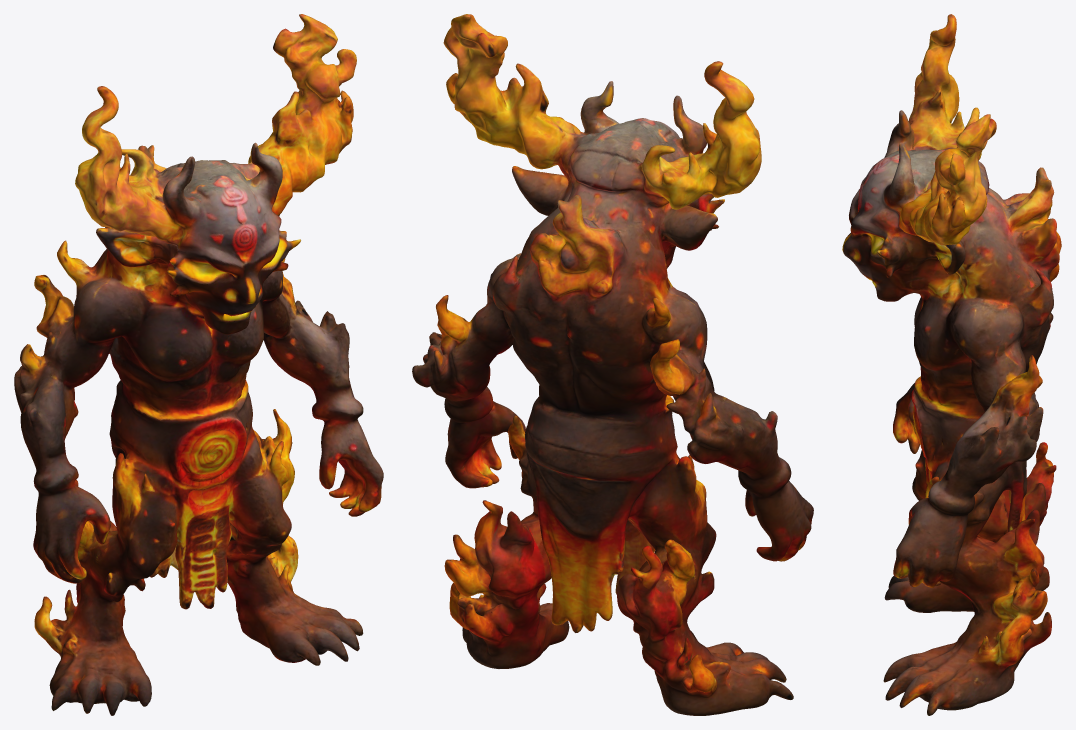
Rendered from game-gof-model-02.glb.
The picture shows the model from 3 angles, left to right: view 1: azimuth 30°, elevation 25°; view 2: azimuth 150°, elevation 25°; view 3: azimuth 270°, elevation 25°; orthographic projection. The views are drawn at different scales.
Bounding box in the file's own units: 1.16 × 2 × 0.6728.
1 material, 1 textured.
